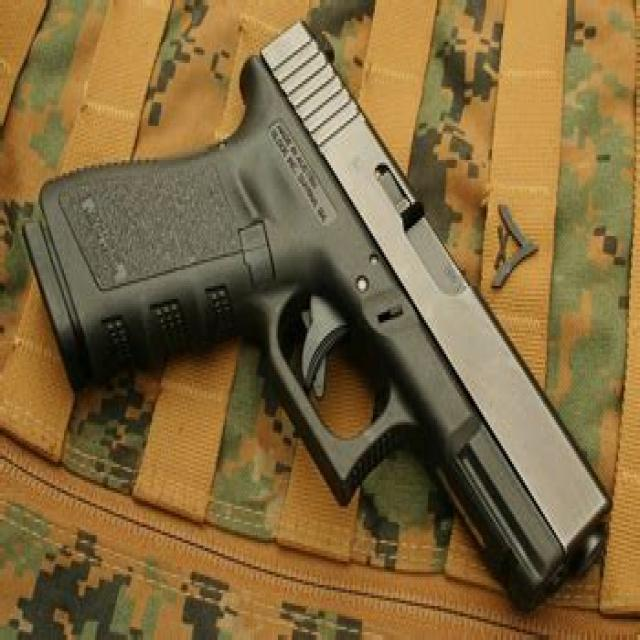weapons: (21, 0, 621, 616)
